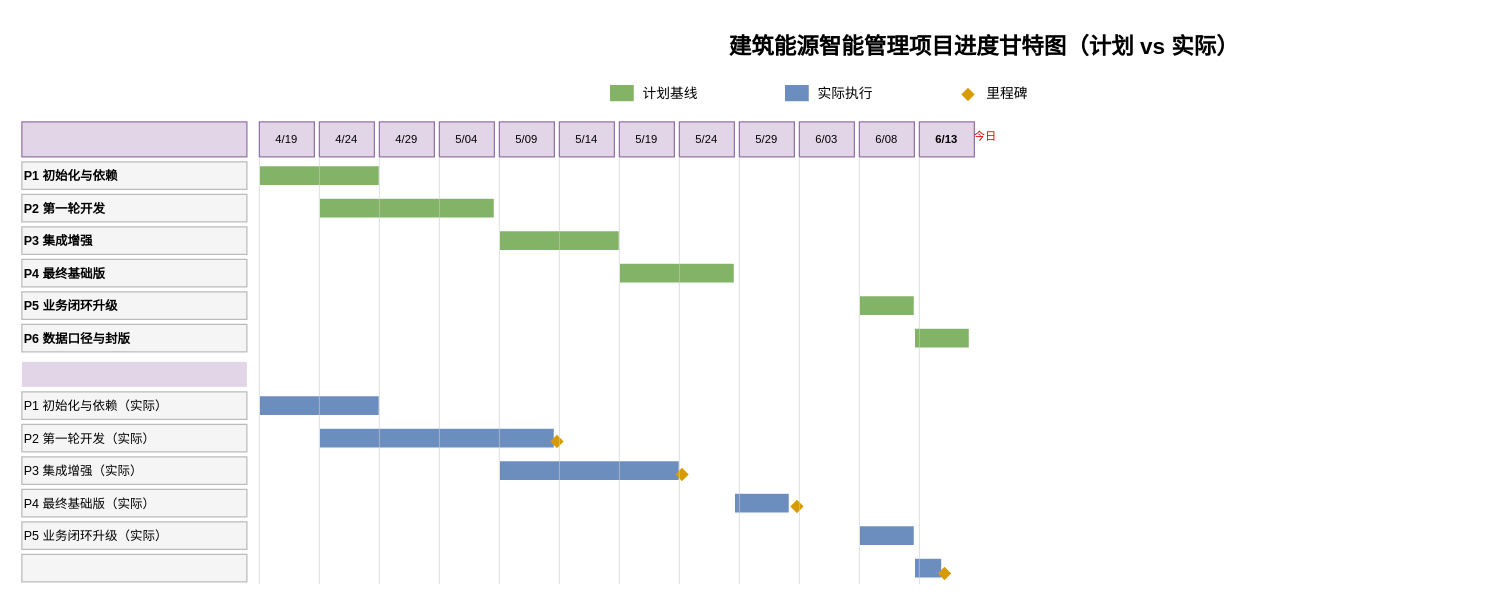
The diagram is 1506 pixels wide and 608 high, and some of its shapes have lost their labels. Here are the shapes that lost their labels. From the top down, the centre of each, then its label:
At point (134, 139): "任务名称".
At point (133, 373): "▼ 实际执行 ▼".
At point (134, 567): "P6 数据口径与封版（实际）".
